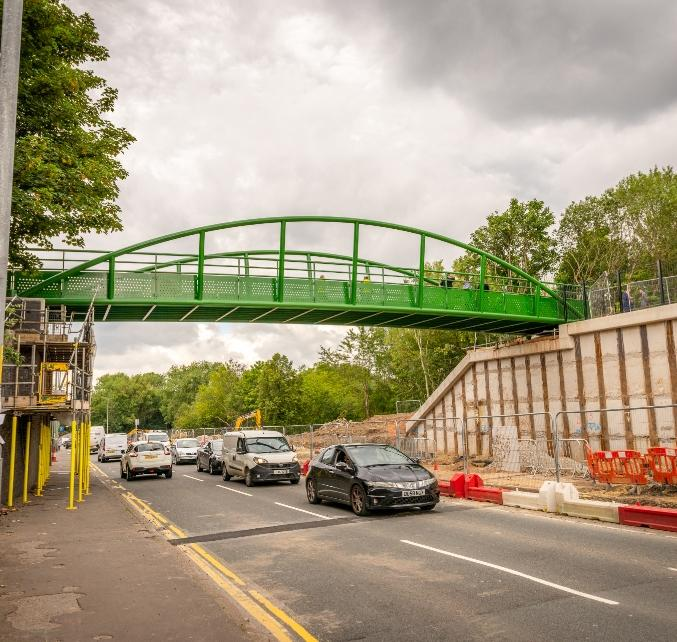bridge: (8, 214, 591, 337)
